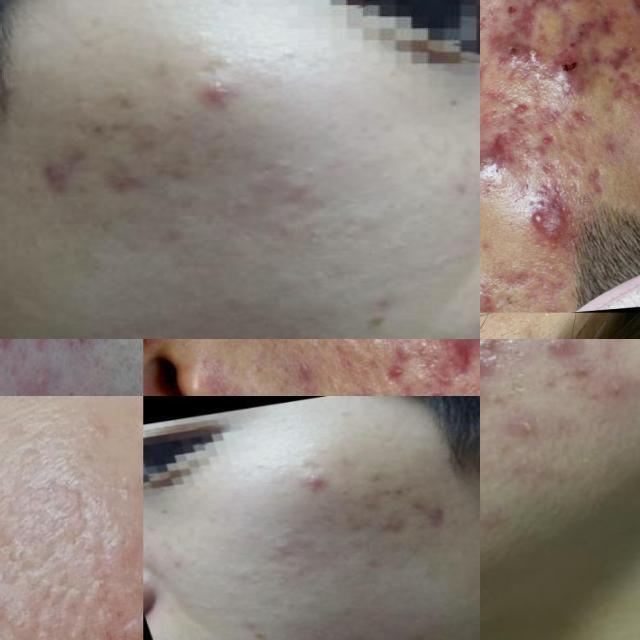acne_scars: (80, 103, 160, 152), (34, 148, 90, 201), (99, 157, 149, 212), (354, 474, 416, 511), (408, 496, 456, 534), (372, 508, 416, 546), (579, 162, 615, 202), (603, 35, 640, 71), (480, 66, 488, 86)
comedone: (226, 190, 264, 224), (305, 541, 337, 565), (502, 283, 522, 306), (305, 228, 324, 241), (300, 166, 318, 177), (275, 573, 289, 583), (265, 534, 280, 542)
flat_wart: (0, 432, 85, 578), (68, 479, 136, 608), (0, 577, 88, 640), (89, 610, 143, 640)
papule: (544, 339, 597, 385), (199, 71, 244, 113), (480, 350, 510, 386), (294, 466, 331, 495)
pustule: (527, 202, 552, 235)
sebo-crystan-conglo: (424, 339, 480, 393), (545, 161, 573, 252), (550, 47, 599, 98), (480, 122, 520, 181), (490, 31, 548, 71)
